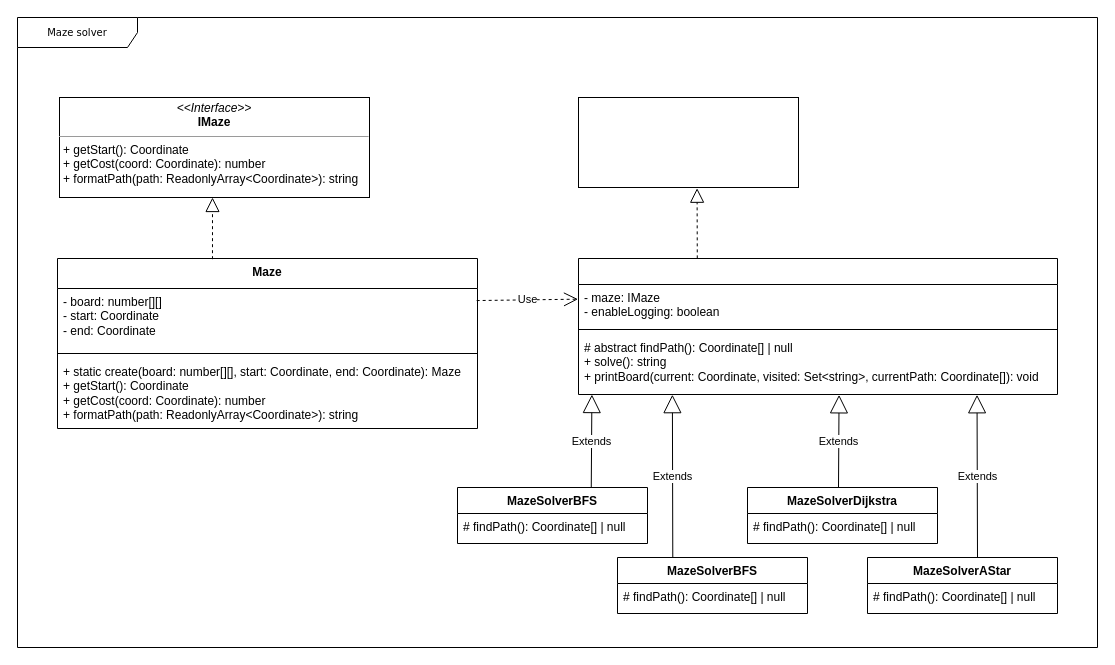
Some shapes in this 1115 by 665 pixel diagram are drawn without their labels. Each missing label, with the box of its shape:
<<Interface>> IMazeSolver + solve(): string + solveAndFormat(): FormattedResult: (578, 96, 798, 188)
MazeSolver: (578, 258, 1058, 394)
